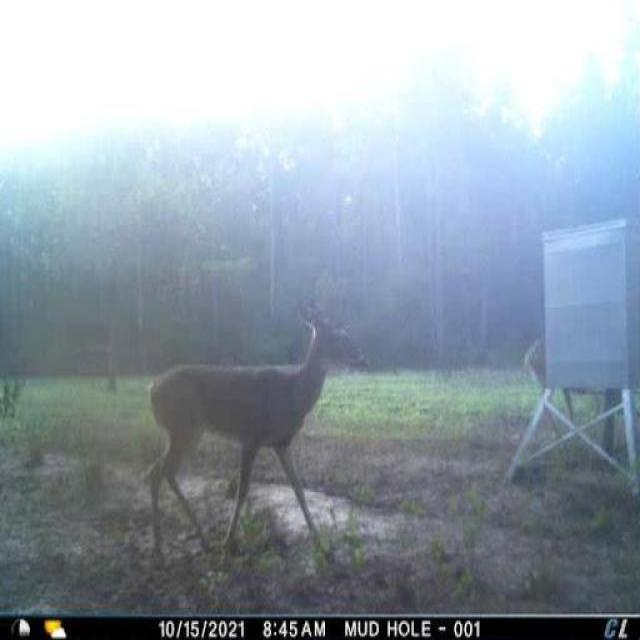deer: (142, 292, 376, 569)
